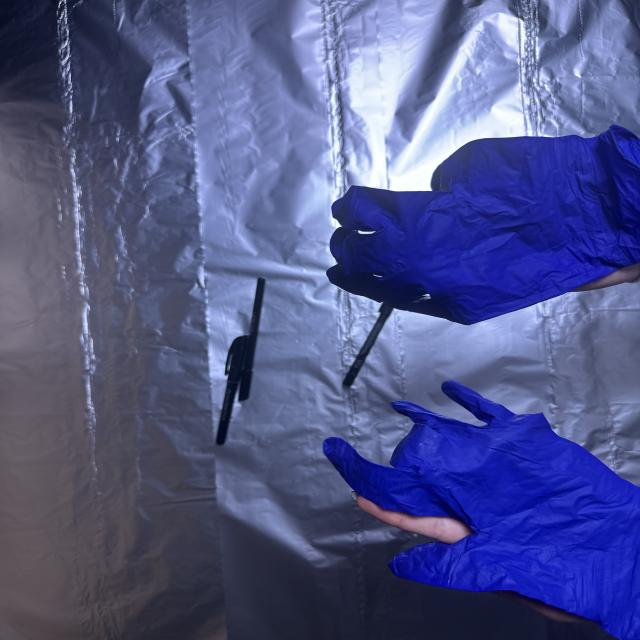glove_not_fitted: (315, 370, 639, 640), (313, 127, 640, 323)
